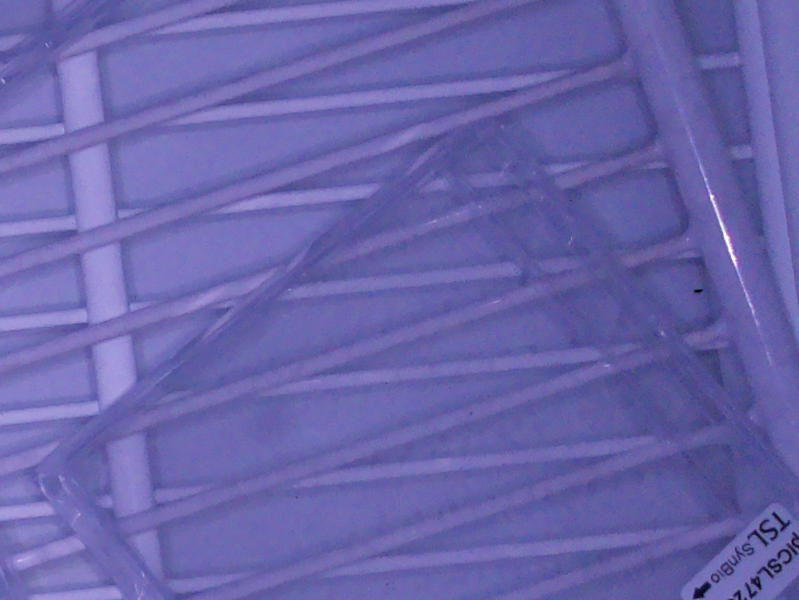plate: (33, 121, 799, 600), (1, 1, 118, 101)
